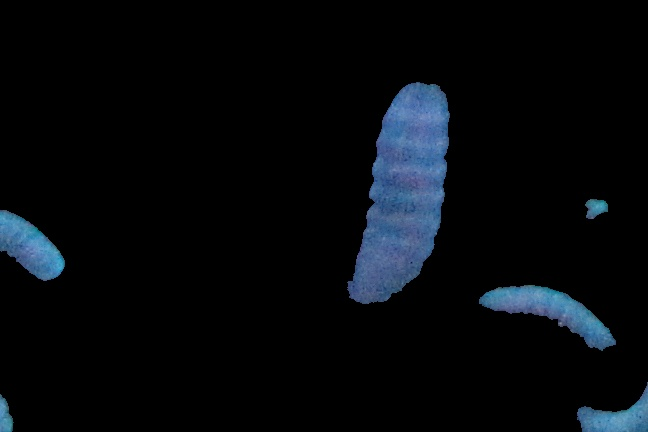larvae: (346, 80, 449, 305), (478, 283, 617, 349), (1, 193, 65, 282)
